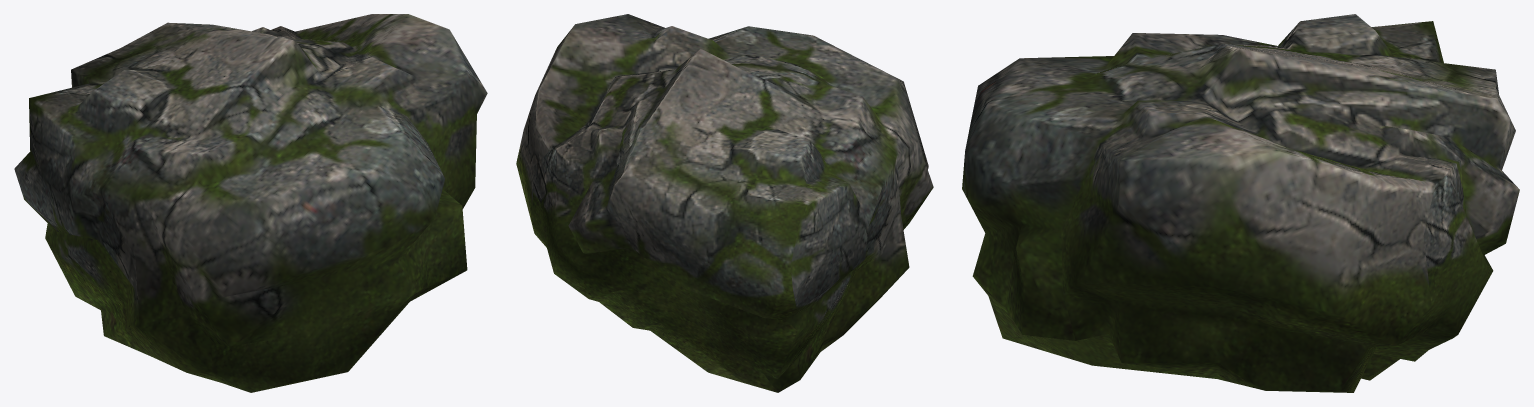
Rendered from qys_rock01.FBX.
3 renders of one model, left to right at view 1: azimuth 30°, elevation 25°; view 2: azimuth 150°, elevation 25°; view 3: azimuth 270°, elevation 25°, orthographic. The views are drawn at different scales.
Visible parts, largest first — view 1: qys_rock01; view 2: qys_rock01; view 3: qys_rock01.
Boxes of the visible parts, bbox=[...] form: qys_rock01: bbox=[14, 14, 487, 392]; qys_rock01: bbox=[516, 14, 933, 392]; qys_rock01: bbox=[962, 14, 1519, 392].
Size of the model in its own units: 1909 by 1536 by 2050.
1 material, 1 textured.
